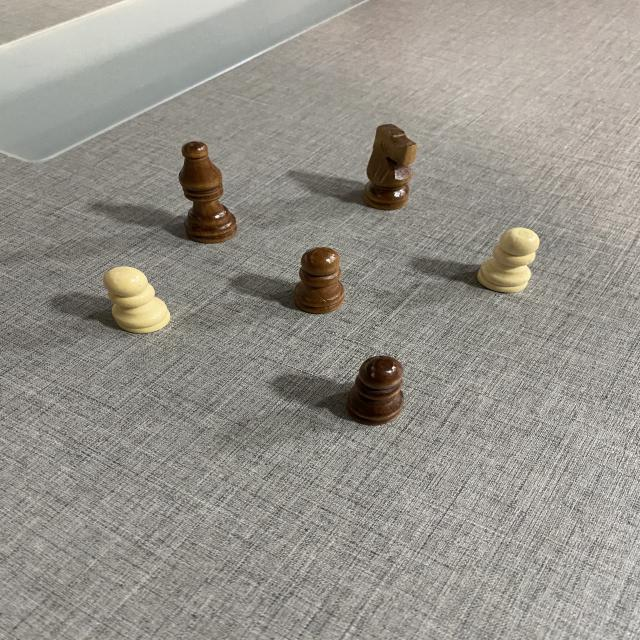Black-Bishop: (178, 141, 234, 243)
Black-Knight: (361, 123, 418, 209)
Black-Pawn: (348, 356, 405, 426), (292, 245, 344, 314)
White-Pawn: (106, 266, 173, 331), (480, 226, 542, 293)
